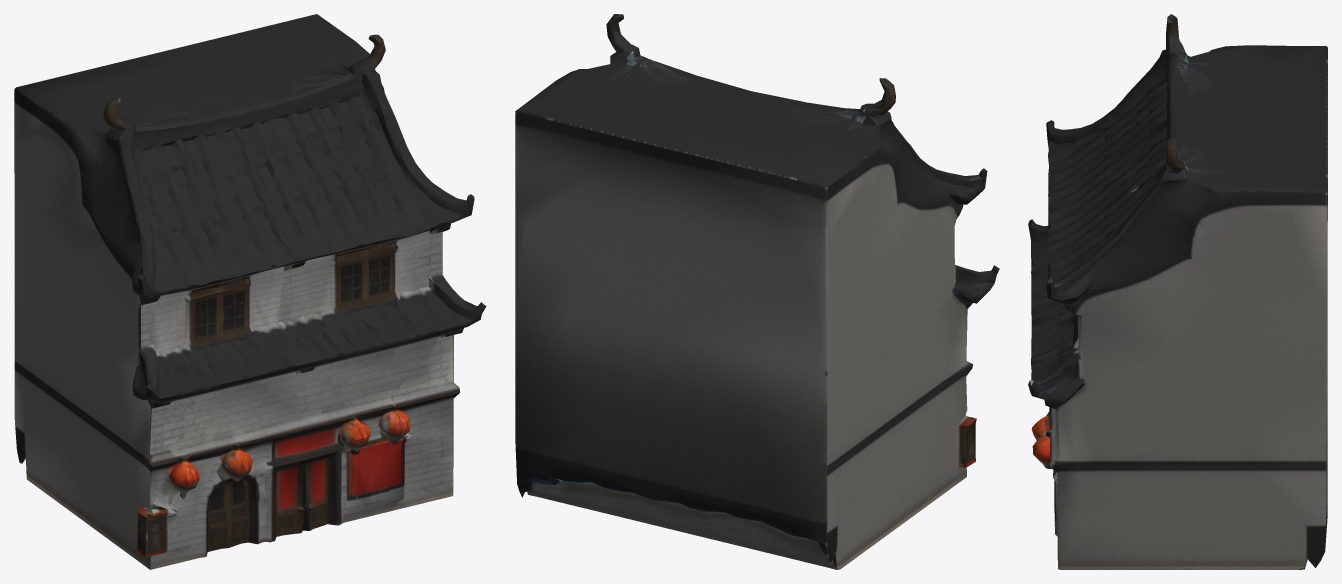
Rendered from ayutthaya_barrio_chinos.glb.
3 views of the same model, side by side, from view 1: azimuth 30°, elevation 25°; view 2: azimuth 150°, elevation 25°; view 3: azimuth 270°, elevation 25° (orthographic). The views are drawn at different scales.
Parts seen in each view (by area): view 1: geometry_0; view 2: geometry_0; view 3: geometry_0.
Part boxes in pixels (box(x1,y1,x2,y2)): geometry_0: box(14, 14, 486, 569); geometry_0: box(515, 14, 999, 569); geometry_0: box(1028, 14, 1327, 569).
Bounding box in the file's own units: 2.4 × 2.86 × 1.85.
Materials: 1 (1 with a texture image).
